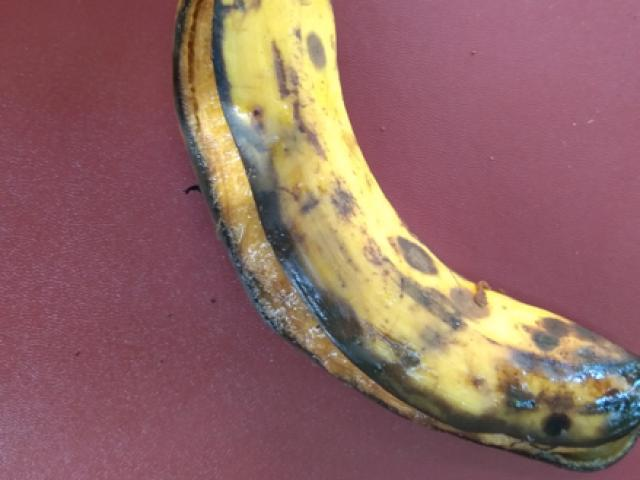rotten: (159, 0, 628, 473)
